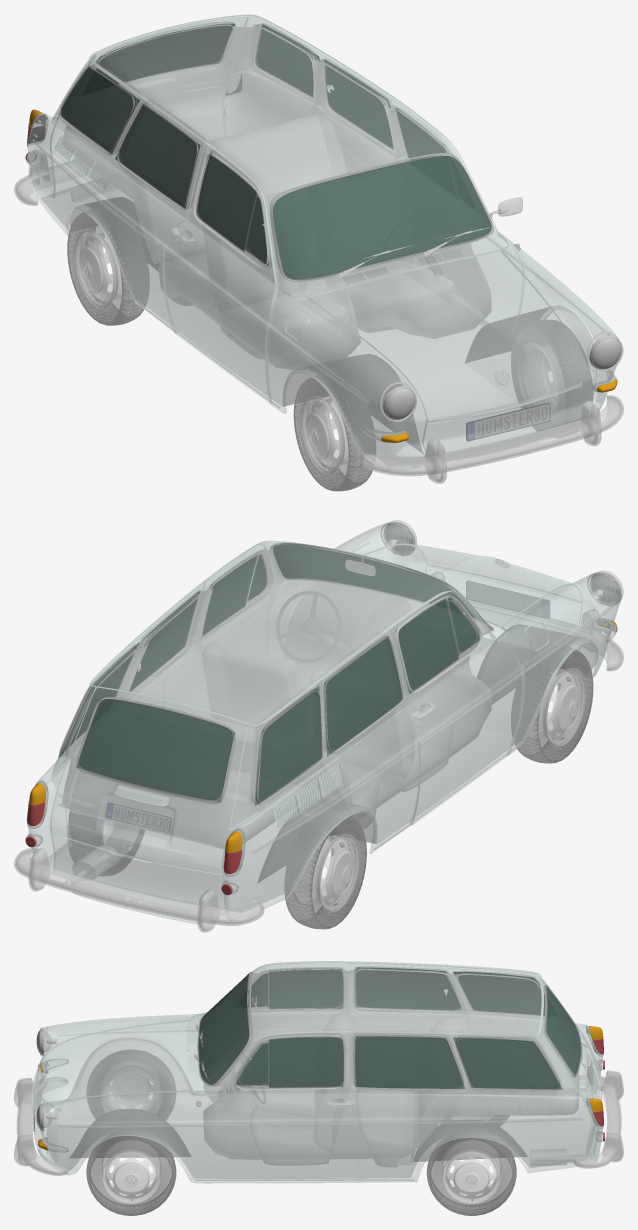
File: volkswagen_variant.glb
The picture shows the model from 3 angles, top to bottom: view 1: azimuth 30°, elevation 25°; view 2: azimuth 150°, elevation 25°; view 3: azimuth 270°, elevation 25°; orthographic projection. The views are drawn at different scales.
Visible parts, largest first — view 1: Volkswagen_1600_(Typ3)_variant_1965_0; view 2: Volkswagen_1600_(Typ3)_variant_1965_0; view 3: Volkswagen_1600_(Typ3)_variant_1965_0.
Part boxes in pixels (x1,y1,x2,y2): Volkswagen_1600_(Typ3)_variant_1965_0: [14, 14, 623, 491]; Volkswagen_1600_(Typ3)_variant_1965_0: [14, 520, 623, 932]; Volkswagen_1600_(Typ3)_variant_1965_0: [14, 961, 623, 1215].
Size of the model in its own units: 171 by 147 by 438.
